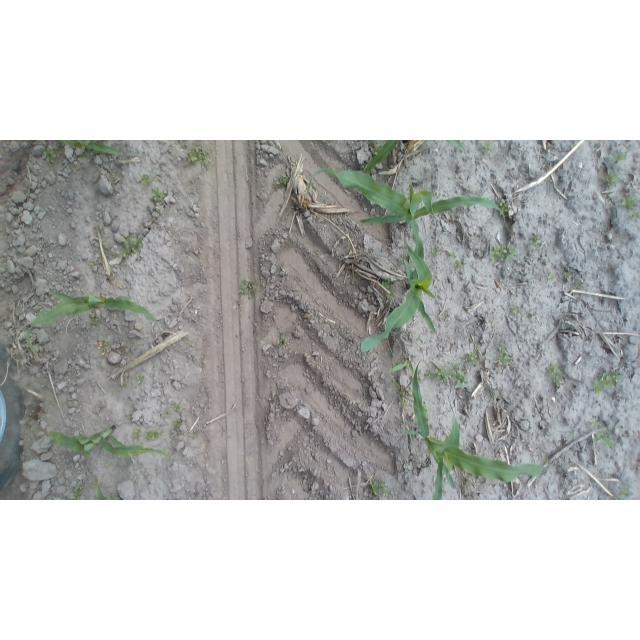Maize: (402, 366, 550, 498), (307, 173, 505, 268), (359, 194, 441, 356), (23, 287, 160, 344), (45, 424, 176, 464), (93, 222, 124, 280), (360, 141, 400, 172), (59, 141, 125, 159), (431, 457, 446, 500), (95, 484, 126, 500), (386, 361, 417, 377), (446, 140, 466, 152)
Weeds: (593, 368, 622, 395), (449, 358, 469, 391), (546, 362, 566, 389), (186, 148, 211, 169), (491, 245, 518, 264), (121, 236, 143, 258), (368, 478, 391, 499), (423, 366, 451, 383), (599, 167, 620, 187), (238, 278, 258, 298), (495, 346, 513, 367), (591, 430, 613, 447), (622, 194, 639, 214), (150, 187, 167, 205), (396, 385, 409, 408), (383, 278, 396, 299), (45, 146, 60, 164), (498, 200, 512, 219), (275, 173, 290, 188), (71, 485, 86, 500), (616, 485, 632, 499), (611, 150, 628, 163), (464, 351, 481, 364), (482, 141, 496, 156), (145, 428, 161, 440), (429, 246, 443, 259), (370, 141, 383, 155), (528, 234, 541, 247), (276, 333, 288, 347), (89, 313, 100, 328), (509, 303, 522, 315), (172, 418, 182, 433), (140, 174, 152, 186), (119, 372, 129, 386), (276, 264, 285, 279), (99, 337, 111, 348), (528, 310, 540, 321), (546, 273, 557, 284), (268, 392, 276, 406), (173, 403, 183, 414), (136, 373, 145, 385), (234, 299, 244, 309), (133, 428, 142, 439), (90, 259, 101, 268), (456, 260, 465, 271), (627, 211, 640, 218), (562, 271, 571, 281), (448, 250, 457, 260), (591, 420, 601, 429), (416, 334, 425, 344), (160, 410, 170, 418), (575, 277, 583, 287), (284, 211, 294, 219), (243, 421, 251, 430), (191, 432, 197, 440), (184, 338, 191, 344)
